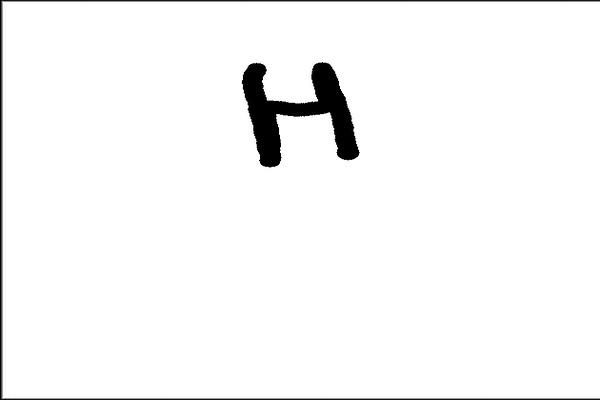H: (238, 51, 365, 168)
